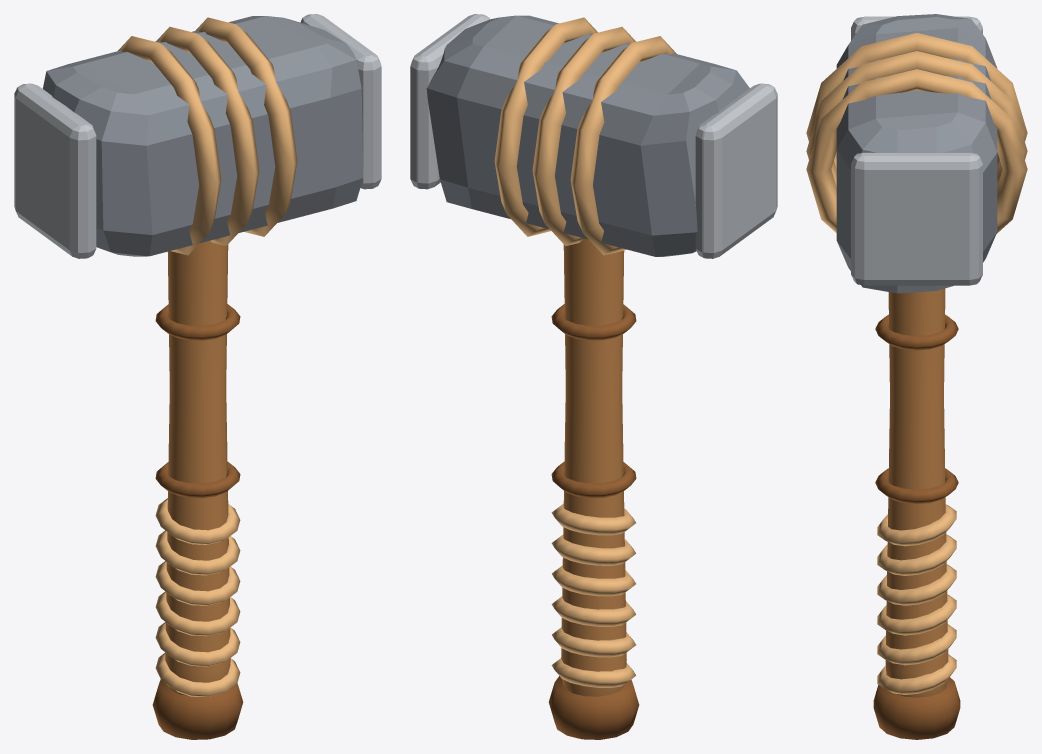
File: Tool_T2.fbx
3 views of the same model, side by side, from view 1: azimuth 30°, elevation 25°; view 2: azimuth 150°, elevation 25°; view 3: azimuth 270°, elevation 25° (orthographic). The views are drawn at different scales.
Parts seen in each view (by area): view 1: ToolT2Head, ToolT2Handle; view 2: ToolT2Head, ToolT2Handle; view 3: ToolT2Head, ToolT2Handle.
Part boxes in pixels (box(x1,y1,x2,y2)): ToolT2Head: box(14, 14, 381, 258); ToolT2Handle: box(152, 240, 243, 739); ToolT2Head: box(410, 14, 777, 258); ToolT2Handle: box(548, 238, 639, 739); ToolT2Head: box(806, 14, 1027, 293); ToolT2Handle: box(873, 288, 960, 739).
Bounding box in the file's own units: 196 × 416 × 124.
